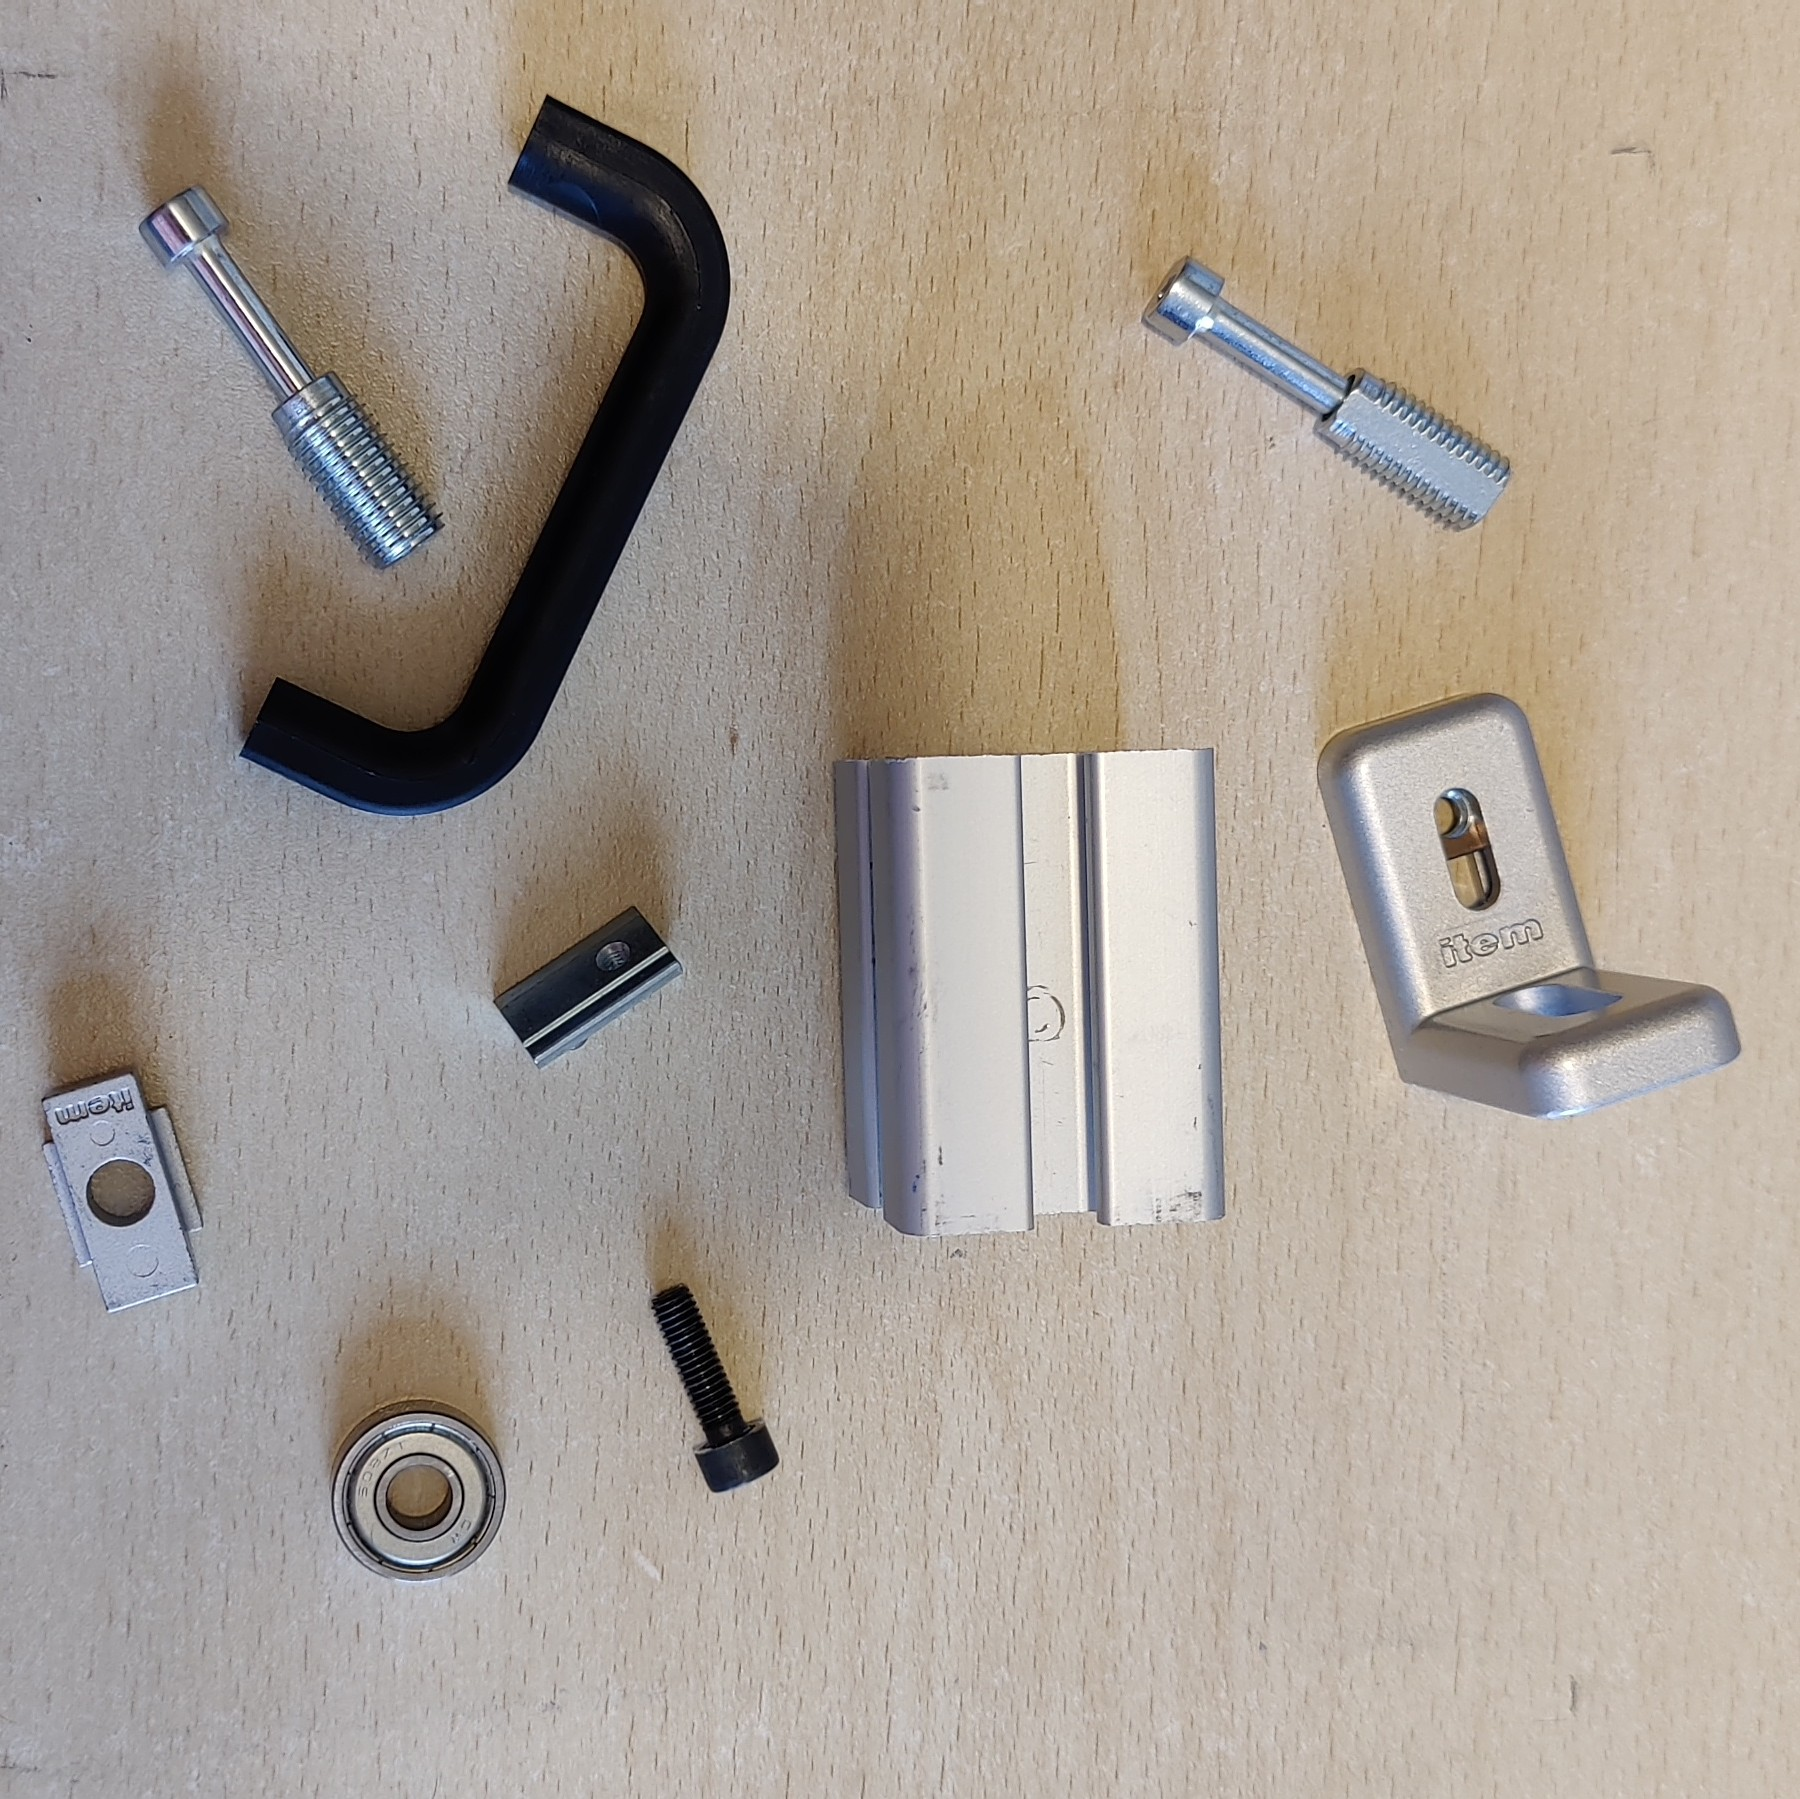Aluminium Extension: (828, 741, 1229, 1241)
Ball Bearing: (329, 1399, 506, 1586)
Multiwinkel: (1314, 689, 1742, 1124)
Pull Handle: (239, 86, 734, 820)
Shoulder Socket Head Cap Screw: (135, 180, 448, 573), (1140, 252, 1515, 534)
Socket Head Cap Screw: (642, 1277, 782, 1496)
T Nut Square: (36, 1063, 206, 1315)
T Spring Nut: (489, 899, 687, 1071)
